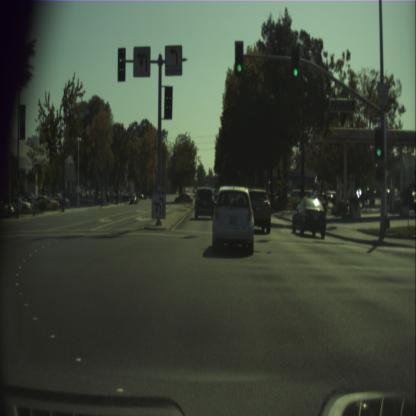Green: (375, 127, 384, 160), (291, 45, 299, 78), (235, 41, 242, 74)
off: (117, 47, 125, 81), (164, 86, 172, 118)
